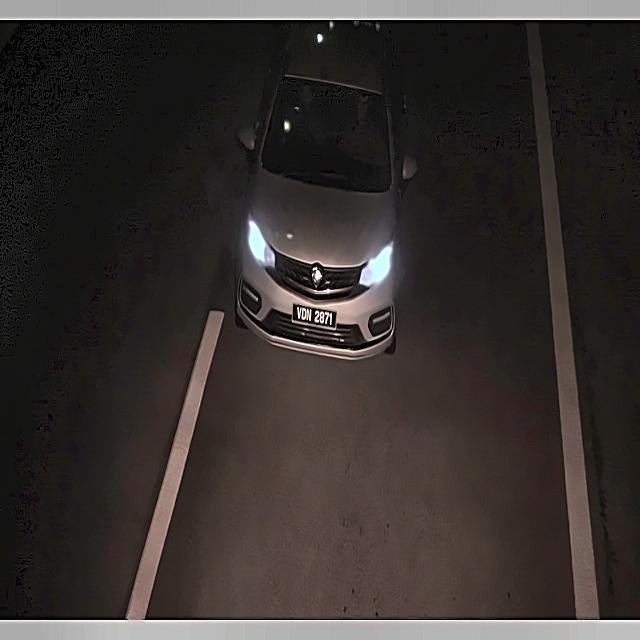car: (284, 296, 343, 335)
